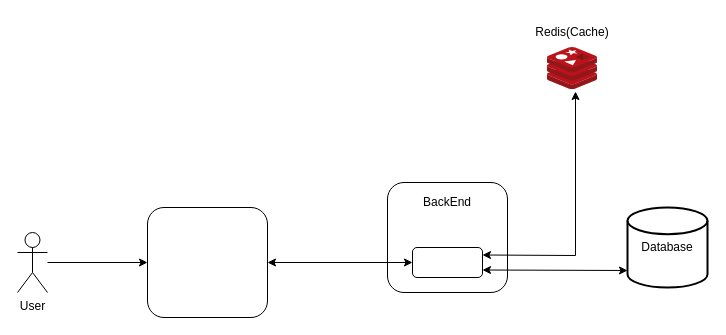
Image size: 726x335. Some labels were removed from this diagram. Each missing label, with the centre of its shape:
FrontEnd: (x=207, y=262)
SocketIO: (x=447, y=262)
